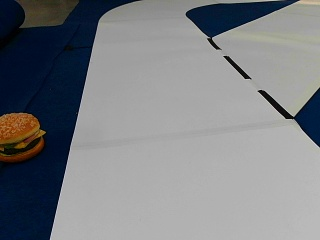burger: (0, 110, 45, 162)
